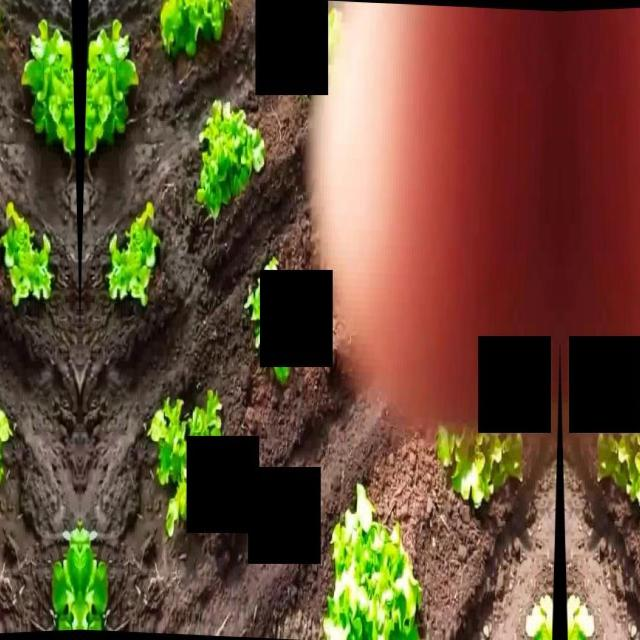healthy: (326, 482, 419, 640), (149, 391, 223, 539), (196, 94, 264, 218), (80, 16, 140, 152), (20, 16, 80, 152), (439, 426, 527, 512), (252, 253, 300, 384), (105, 204, 158, 310), (1, 204, 54, 310), (157, 0, 228, 58), (593, 425, 640, 512), (80, 530, 112, 640), (48, 530, 80, 640), (0, 391, 11, 539), (0, 0, 2, 58)
